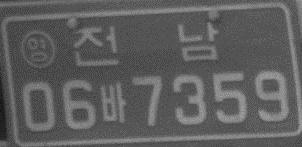0: (21, 81, 55, 133)
3: (172, 73, 207, 125)
5: (212, 71, 248, 124)
6: (61, 79, 97, 130)
7: (130, 75, 163, 125)
9: (254, 70, 289, 123)
바: (99, 81, 127, 123)
영: (20, 29, 57, 70)
전남_D: (71, 21, 219, 68)
